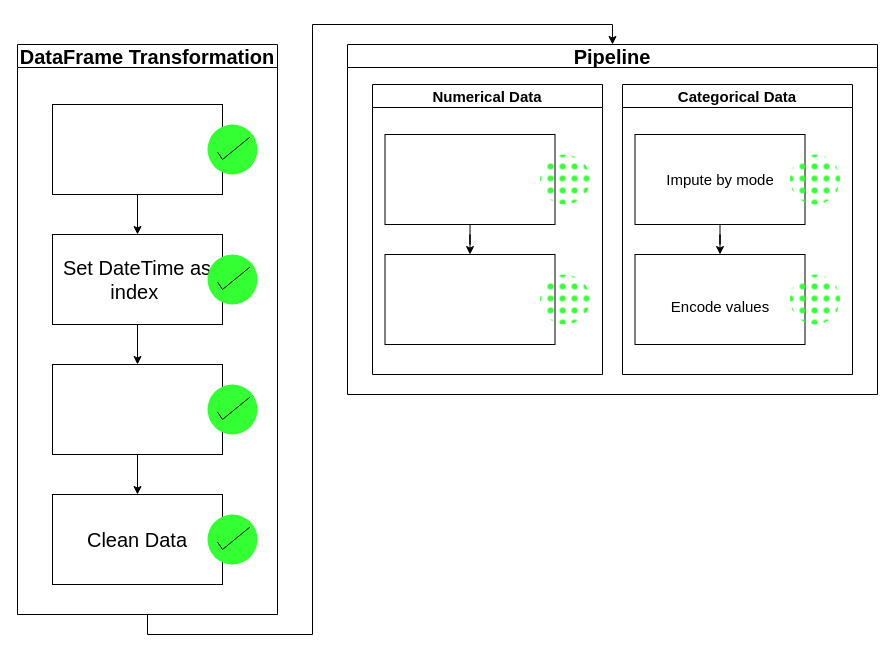
This 895x660 diagram has some shape labels left out. Here are the shapes that lost their labels. From the top down, the centre of each, then its label:
At (x=137, y=149): "Import Data".
At (x=469, y=179): "Impute by median".
At (x=469, y=299): "Scale Values".
At (x=137, y=409): "Create features from DateTime elements".
